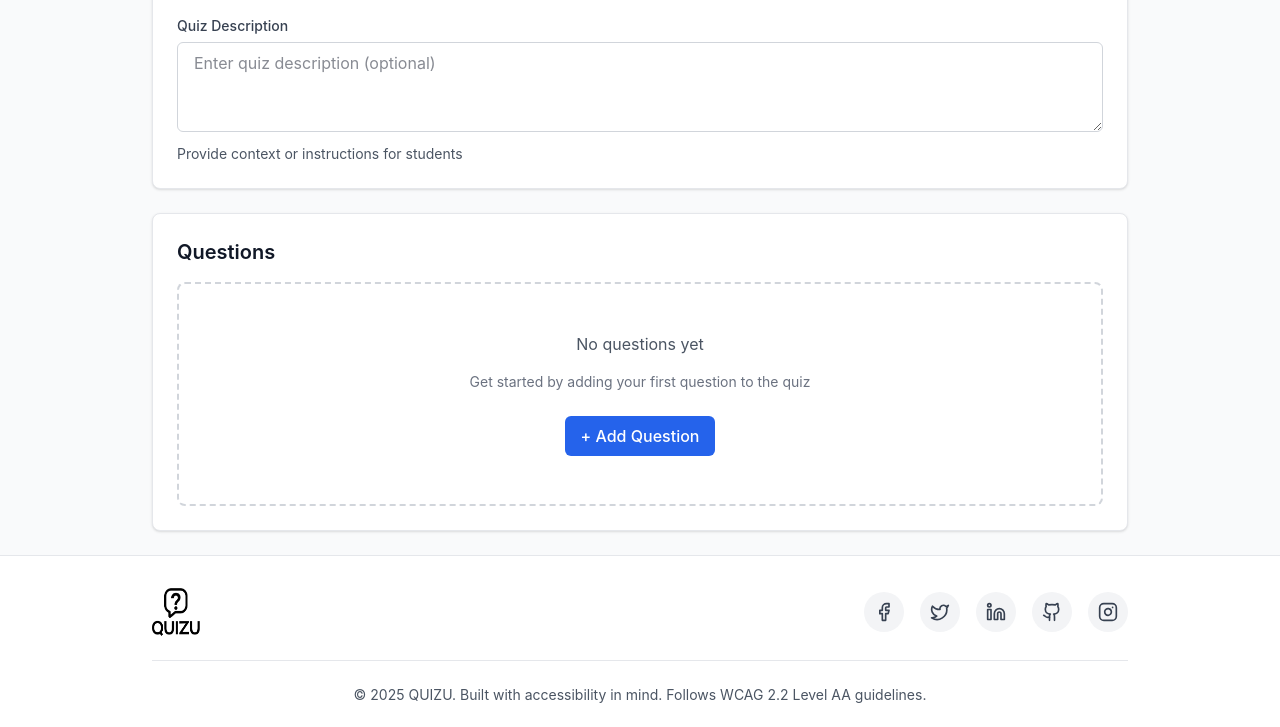
Quiz Builder Integration Tests › Add/Remove Questions › should support undo/redo for add/remove operations
(page scrolled)
What coordinates should you click on to do the following:
click the button with aria-label "add first question"
I would click on:
 (640, 436)
Its box is [564,416,715,456].
(page scrolled)
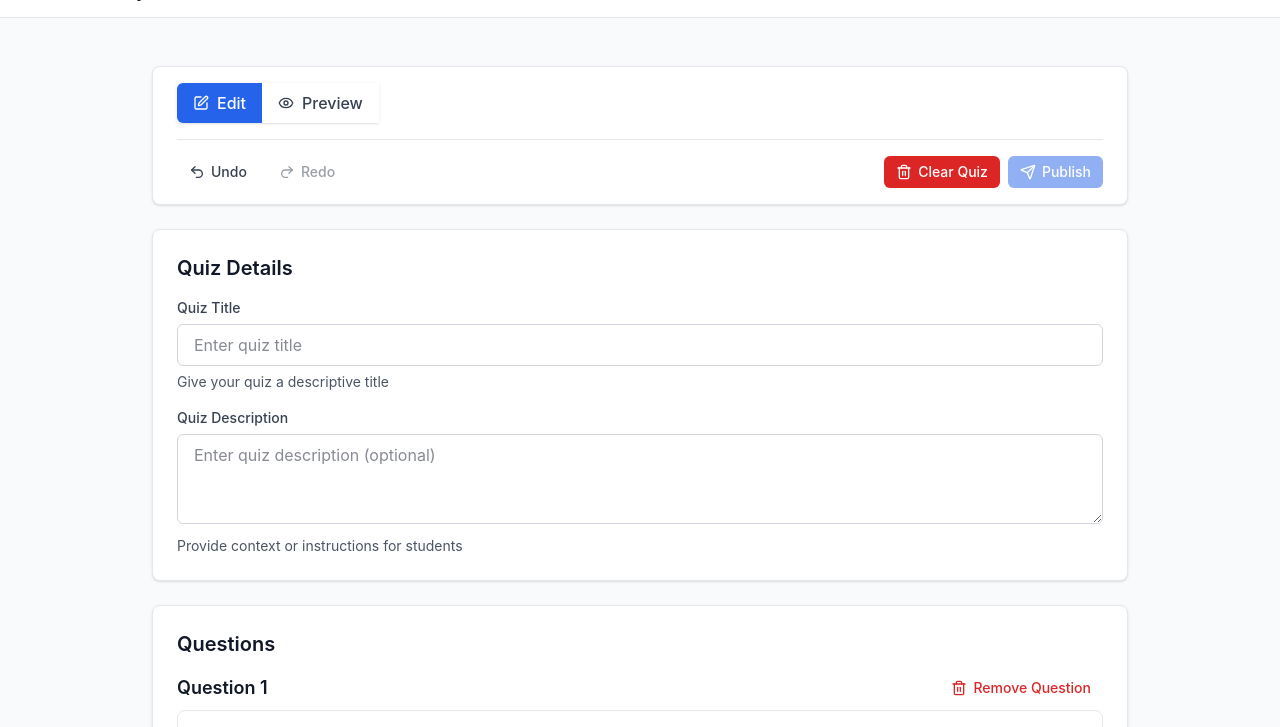
Now the heading "Question 1" is shown, box [177,674,268,702]
Undo - should remove the question
What coordinates should you click on to do the following:
click the button "Undo"
I would click on:
 (218, 172)
Its box is [177,156,259,188].
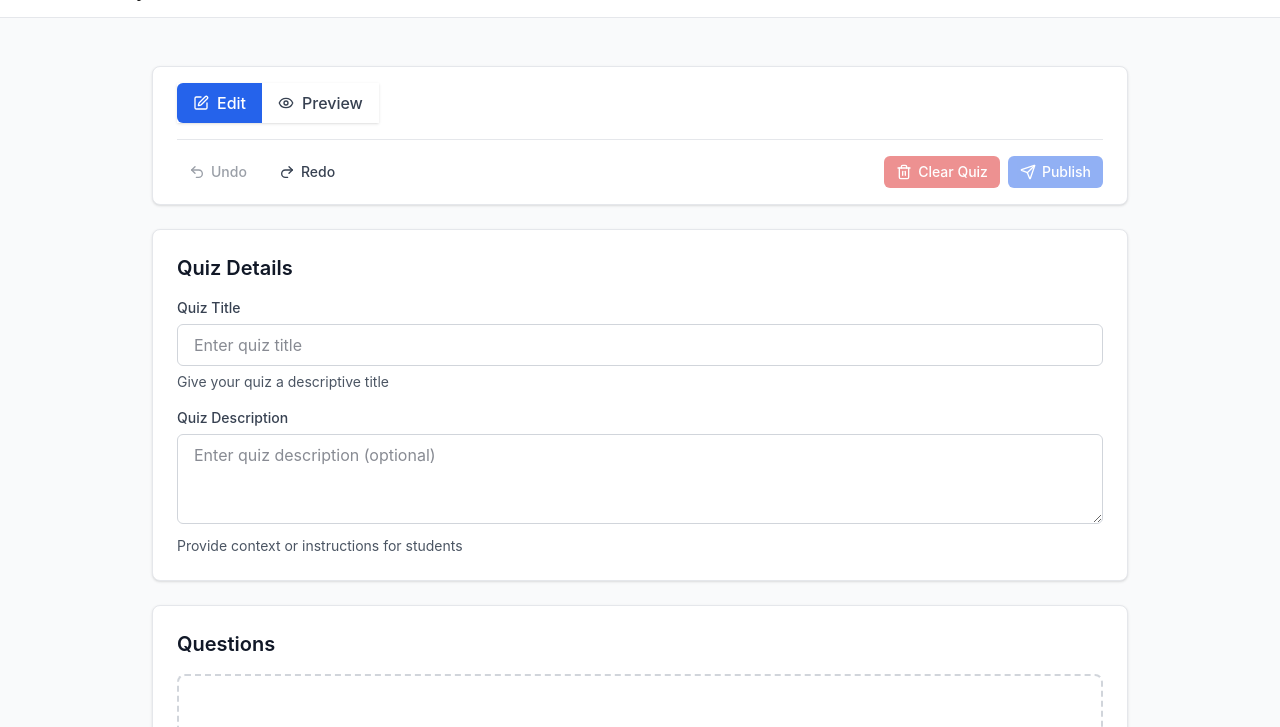
Now the heading "Question 1" is gone
Redo - should add the question back
What coordinates should you click on to do the following:
click the button "Redo"
I would click on:
 (307, 172)
Its box is [267,156,347,188].
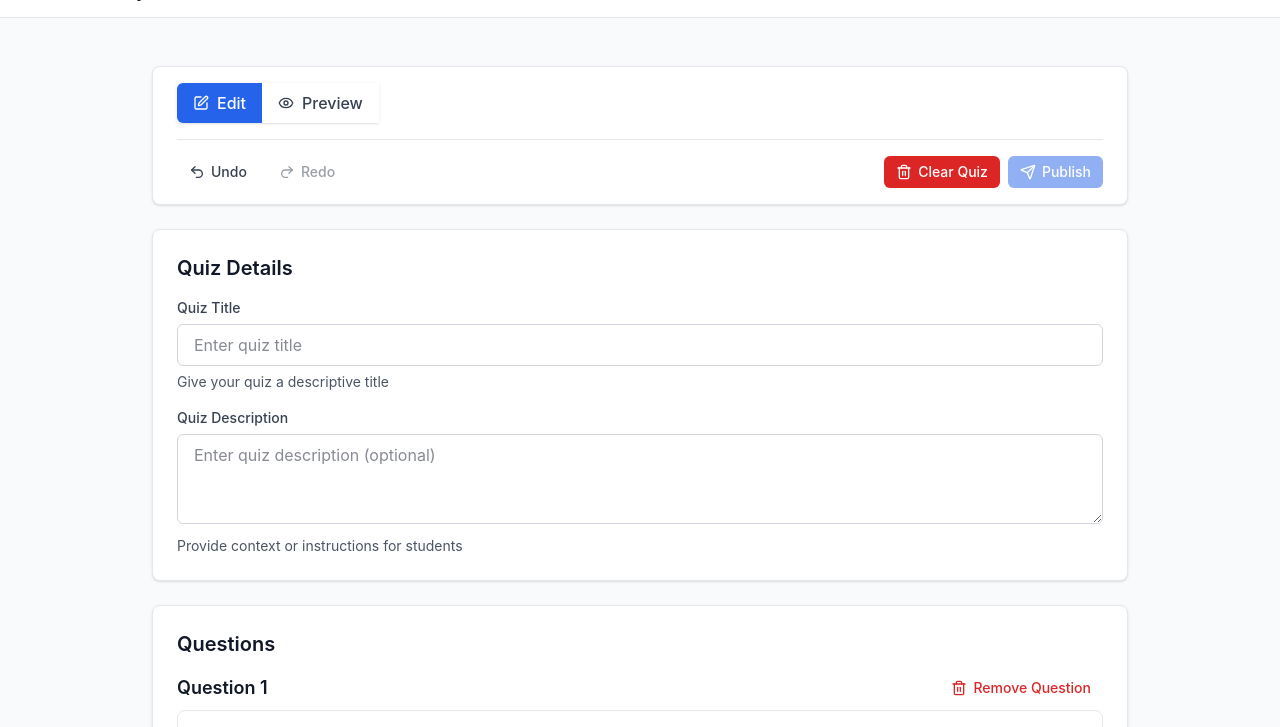
Now the heading "Question 1" is shown, box [177,674,268,702]
